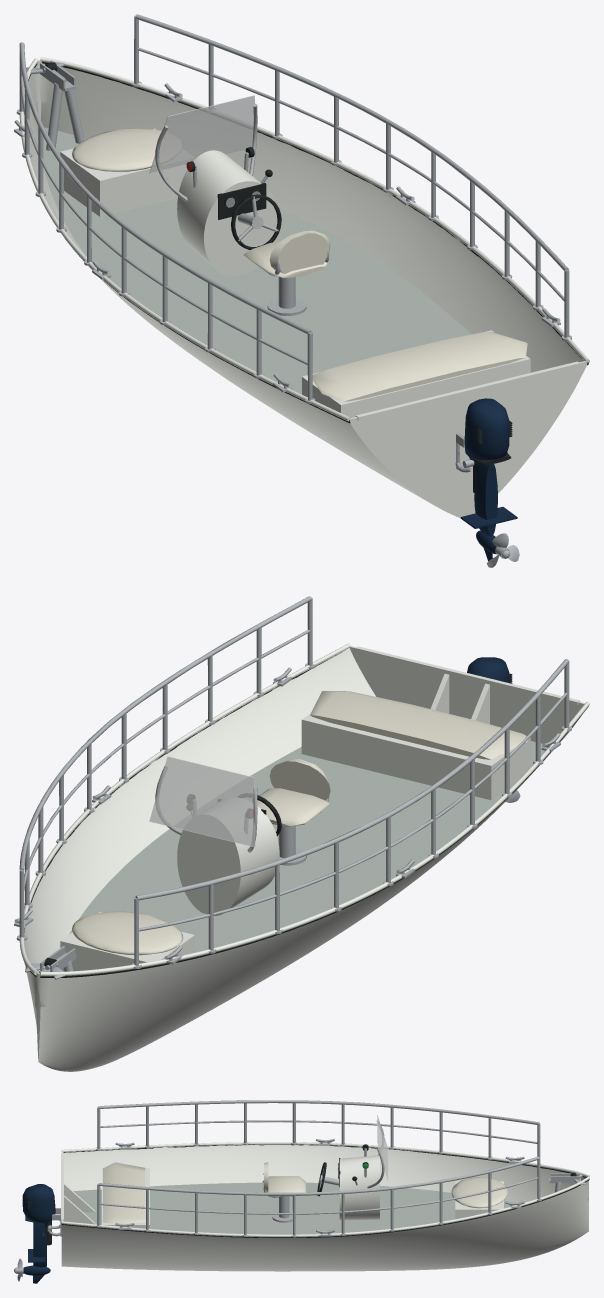
File: boat_motorboat.glb
3 renders of one model, top to bottom at view 1: azimuth 30°, elevation 25°; view 2: azimuth 150°, elevation 25°; view 3: azimuth 270°, elevation 25°, orthographic. The views are drawn at different scales.
Visible parts, largest first — view 1: Finite lofted hull and transom, Seated continuous cockpit deck, Anchor retained roller pin, Forward padded seat, Finite open console windscreen, Stern outboard finite anti-ventilation plate, Anchor rolling cylinder; view 2: Finite lofted hull and transom, Seated continuous cockpit deck, Anchor retained roller pin, Forward padded seat, Finite open console windscreen, Anchor rolling cylinder, Stern outboard finite anti-ventilation plate; view 3: Finite lofted hull and transom, Seated continuous cockpit deck, Anchor retained roller pin, Forward padded seat, Stern outboard finite anti-ventilation plate, Anchor rolling cylinder, Finite open console windscreen.
Part boxes in pixels (x1,y1,x2,y2): Finite lofted hull and transom: (19, 57, 589, 517); Seated continuous cockpit deck: (43, 127, 471, 394); Anchor retained roller pin: (14, 14, 571, 567); Forward padded seat: (72, 128, 527, 401); Finite open console windscreen: (149, 95, 260, 207); Stern outboard finite anti-ventilation plate: (460, 398, 517, 561); Anchor rolling cylinder: (28, 62, 588, 492); Finite lofted hull and transom: (19, 643, 589, 1071); Seated continuous cockpit deck: (69, 741, 544, 952); Anchor retained roller pin: (14, 596, 571, 979); Forward padded seat: (72, 691, 527, 955); Finite open console windscreen: (149, 756, 255, 847); Anchor rolling cylinder: (24, 652, 588, 977); Stern outboard finite anti-ventilation plate: (467, 657, 509, 682); Finite lofted hull and transom: (61, 1142, 589, 1271); Seated continuous cockpit deck: (73, 1182, 515, 1234); Anchor retained roller pin: (14, 1100, 586, 1281); Forward padded seat: (103, 1162, 507, 1223); Stern outboard finite anti-ventilation plate: (22, 1184, 55, 1283); Anchor rolling cylinder: (25, 1144, 589, 1245); Finite open console windscreen: (337, 1115, 388, 1180).
Bounding box in the file's own units: 2.54 × 1.94 × 6.5.
10 materials, 5 textured.
